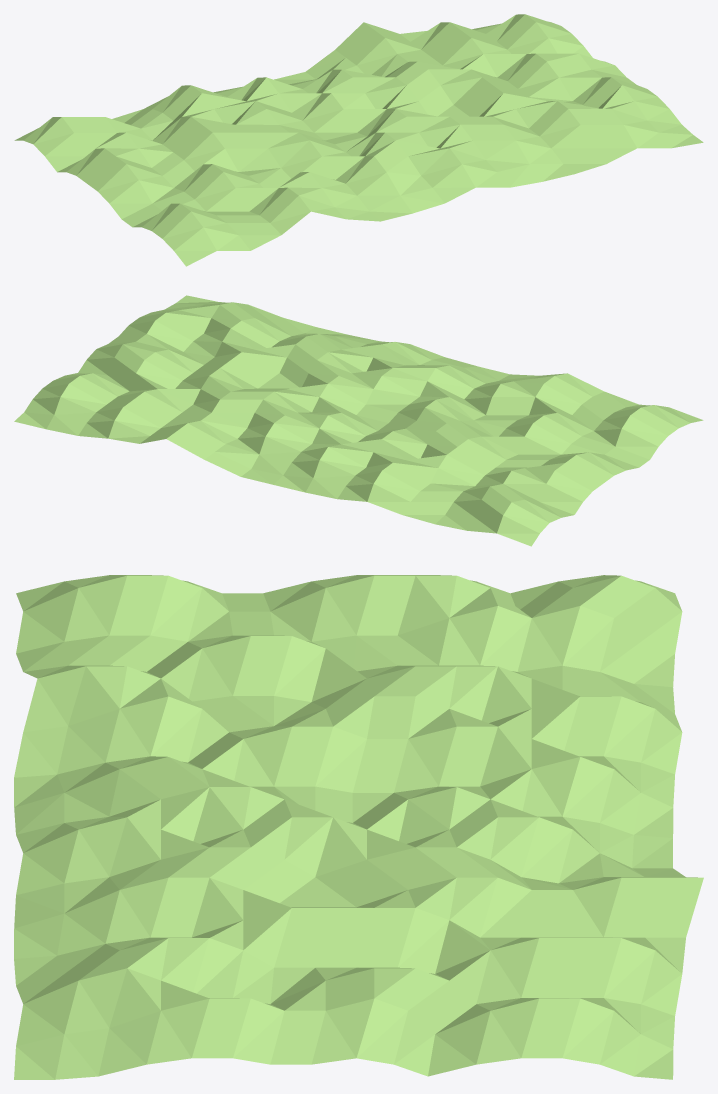
Rendered from terrain.dae.
3 views of the same model, one above another, from view 1: azimuth 30°, elevation 25°; view 2: azimuth 150°, elevation 25°; view 3: azimuth 270°, elevation 25° (orthographic). The views are drawn at different scales.
Parts seen in each view (by area): view 1: Plane; view 2: Plane; view 3: Plane.
Boxes of the visible parts, box(x1,y1,x2,y2) form: Plane: box(14, 14, 703, 266); Plane: box(14, 295, 703, 546); Plane: box(14, 575, 703, 1079).
Bounding box in the file's own units: 59.65 × 35.95 × 3.03.
